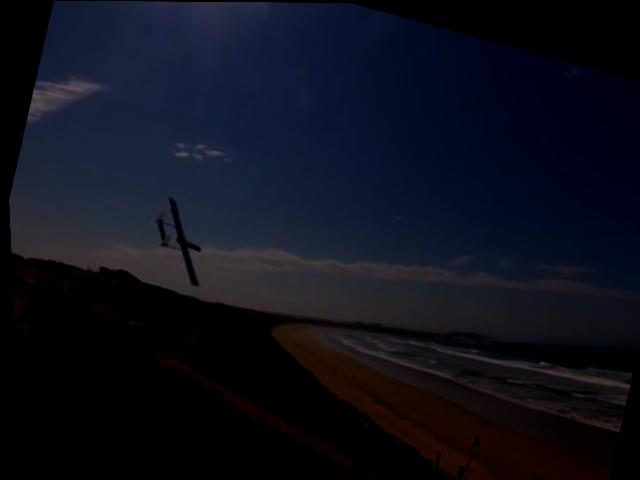uav: (139, 195, 216, 286)
